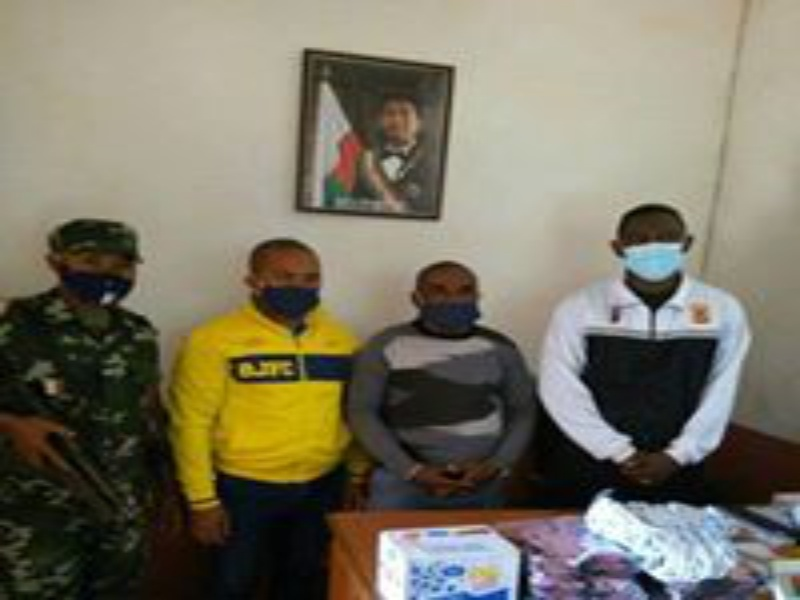ManaoArotava: (44, 213, 150, 323), (604, 198, 709, 294), (237, 232, 331, 324), (401, 259, 489, 330)
